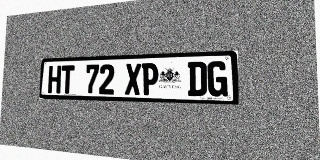2: (99, 64, 114, 94)
7: (84, 64, 99, 94)
D: (188, 61, 207, 96)
G: (207, 61, 228, 97)
H: (48, 65, 61, 93)
P: (141, 63, 158, 95)
T: (60, 65, 75, 94)
X: (125, 63, 141, 95)
